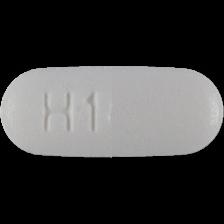43547-351: (0, 0, 224, 224)
